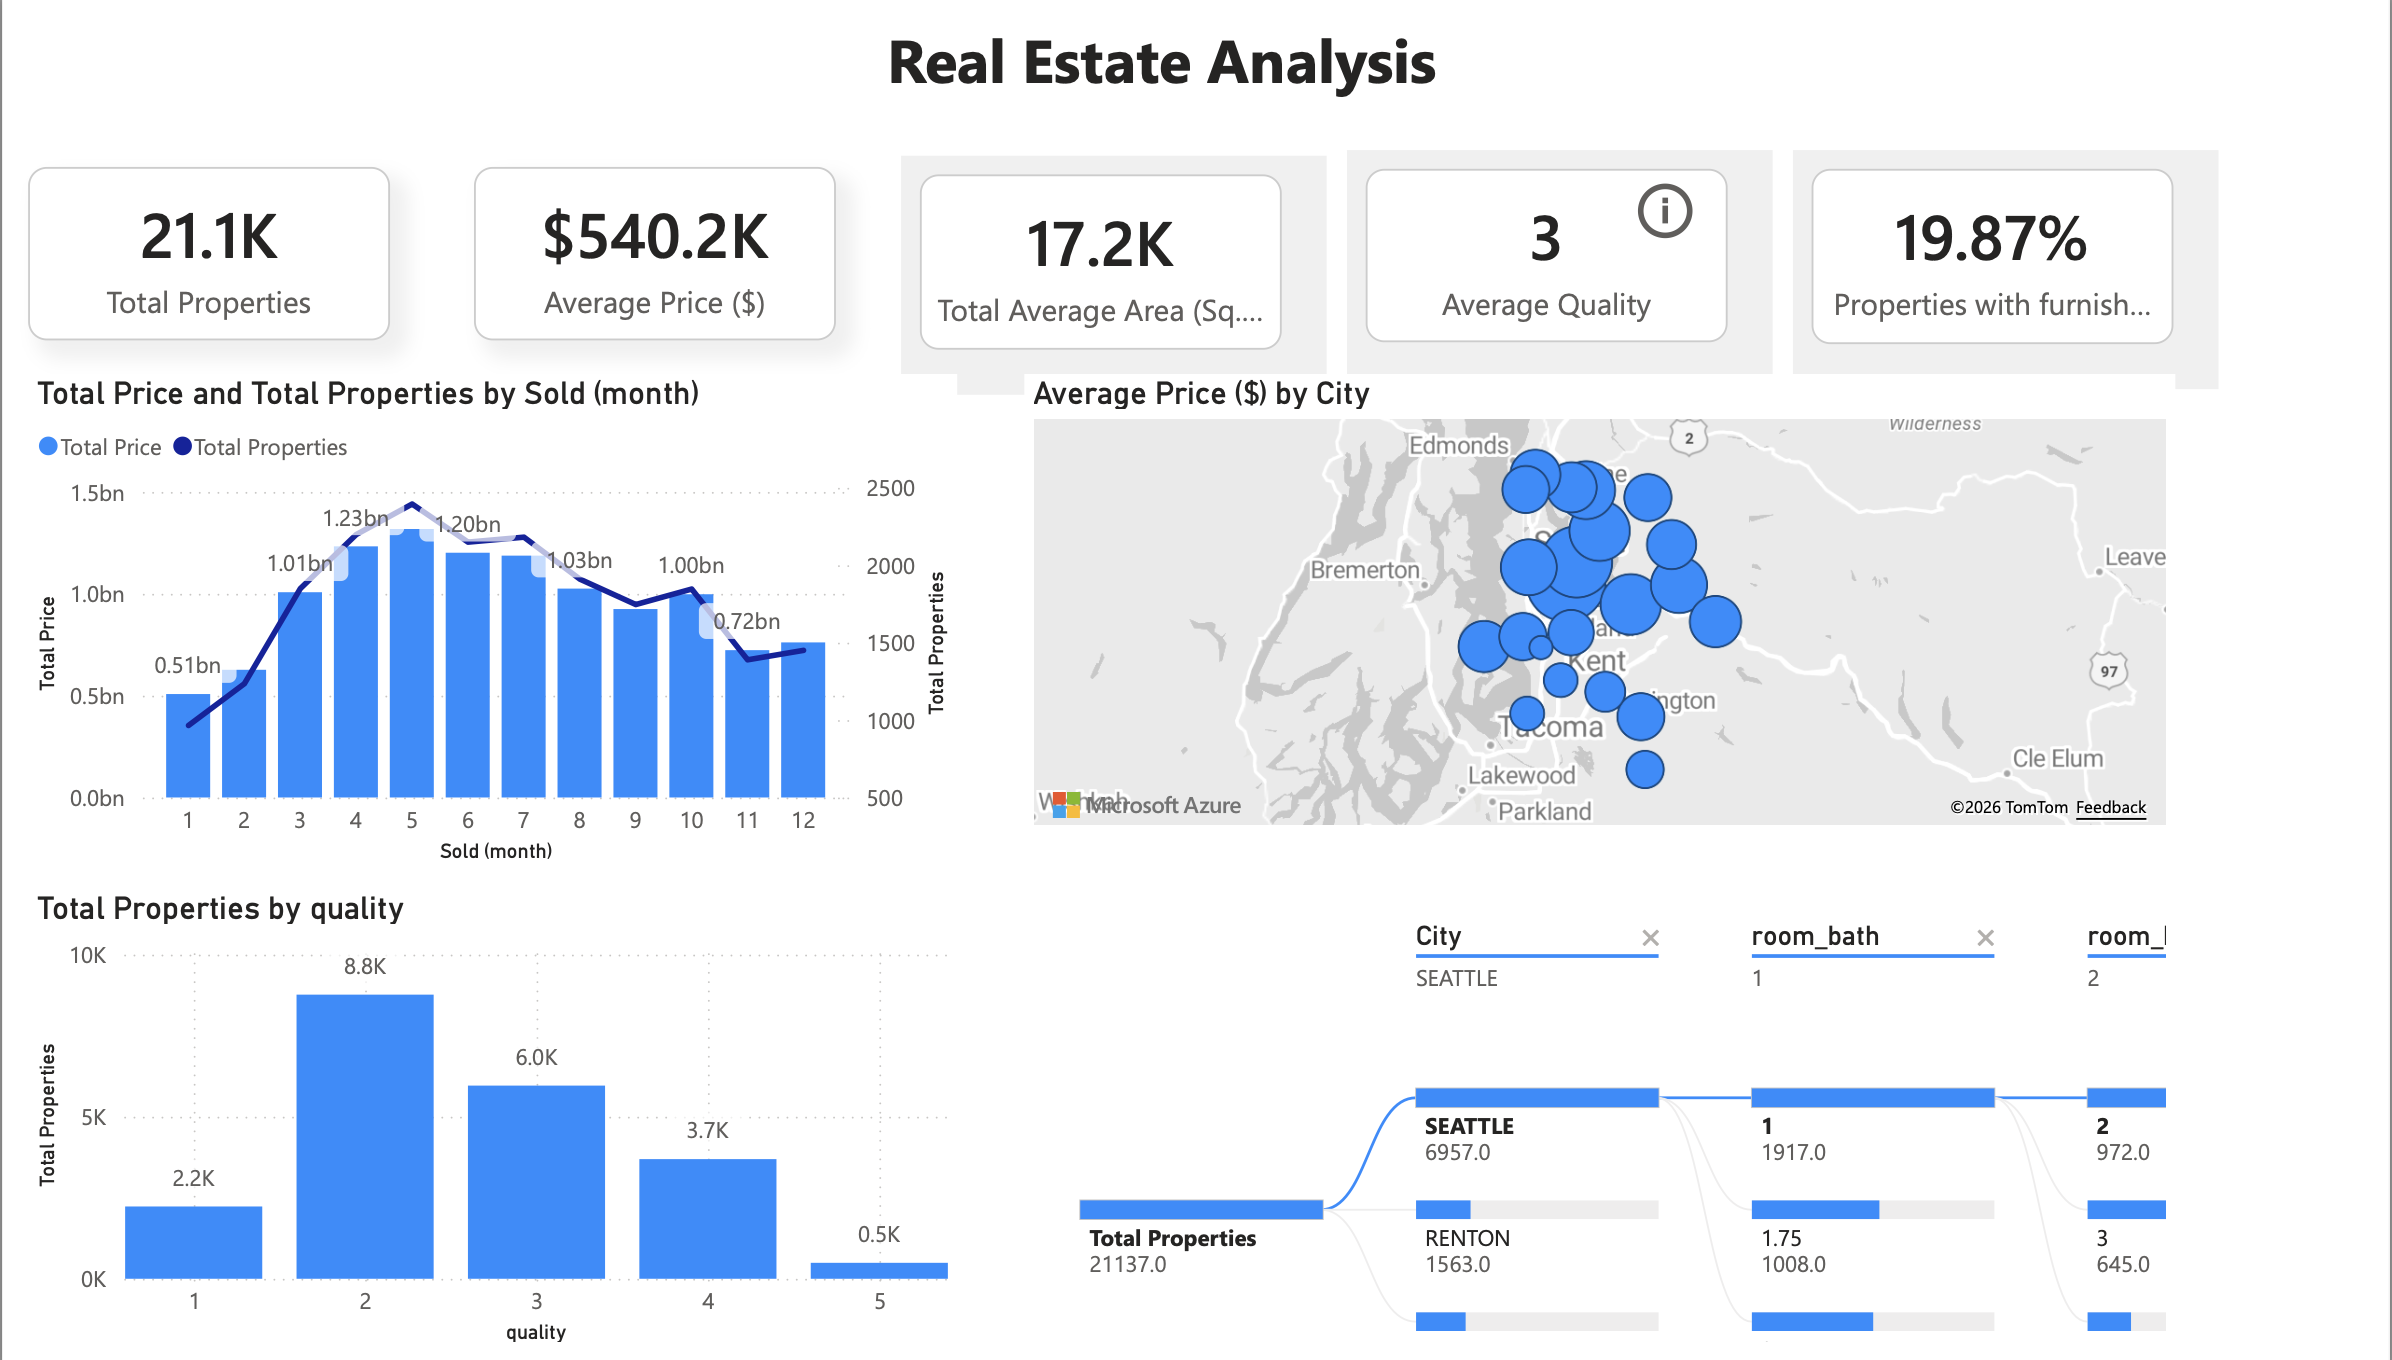

Layout of this report page (visuals, bound fields, positions):
{"tool":"powerbi","page":{"name":"Real Estate Analysis","canvas":[1280,720],"ordinal":0},"visuals":[{"type":"card","fields":{"Values":["Real Estate Dataset.Total Properties"]},"box":[14.1,84.6,194,93],"z":0},{"type":"card","fields":{"Values":["Real Estate Dataset.Average Price ($)"]},"box":[253.1,84.6,194,93],"z":1000},{"type":"card","fields":{"Values":["Real Estate Dataset.Total Average Area (Sq.ft)"]},"box":[492.1,89.2,194,93.9],"z":2000},{"type":"card","fields":{"Values":["Real Estate Dataset.Average Quality"]},"box":[731.2,86.1,194,93],"z":3000},{"type":"actionButton","box":[871.6,89.2,42.2,39.1],"z":4000},{"type":"card","fields":{"Values":["Real Estate Dataset.Properties with furnished (%)"]},"box":[970.2,86.1,194,93.9],"z":5000},{"type":"lineStackedColumnComboChart","fields":{"Category":["Real Estate Dataset.Sold (month)"],"Y":["Real Estate Dataset.Total Price"],"Y2":["Real Estate Dataset.Total Properties"]},"box":[14.1,195.6,497.6,266],"z":5001},{"type":"azureMap","fields":{"Category":["Real Estate Dataset.City"],"Size":["Real Estate Dataset.Average Price ($)"]},"box":[547.7,195.6,616.5,247.2],"z":5002},{"type":"lineStackedColumnComboChart","fields":{"Category":["Real Estate Dataset.quality "],"Y":["Real Estate Dataset.Total Properties"]},"box":[14,472,498,248],"z":5003},{"type":"decompositionTreeVisual","fields":{"Analyze":["Real Estate Dataset.Total Properties"],"ExplainBy":["Real Estate Dataset.City","Real Estate Dataset.room_bath","Real Estate Dataset.room_bed","Real Estate Dataset.basement"]},"box":[548,472,617,248],"z":5004},{"type":"textbox","box":[447.2,0,349.8,65.3],"z":5005}]}

Visuals, with their boxes in screenshot pixels (x1, y1, x2, y2), scaled from the page's 1280x720 canvas onto the 2392x1360 screenshot:
card - Real Estate Dataset.Total Properties: 26, 160, 389, 335
card - Real Estate Dataset.Average Price ($): 473, 160, 836, 335
card - Real Estate Dataset.Total Average Area (Sq.ft): 920, 168, 1282, 346
card - Real Estate Dataset.Average Quality: 1366, 163, 1729, 338
actionButton: 1629, 168, 1708, 242
card - Real Estate Dataset.Properties with furnished (%): 1813, 163, 2176, 340
lineStackedColumnComboChart - Real Estate Dataset.Sold (month) x Real Estate Dataset.Total Price: 26, 369, 956, 872
azureMap - Real Estate Dataset.City x Real Estate Dataset.Average Price ($): 1024, 369, 2176, 836
lineStackedColumnComboChart - Real Estate Dataset.quality  x Real Estate Dataset.Total Properties: 26, 892, 957, 1359
decompositionTreeVisual - Real Estate Dataset.Total Properties x Real Estate Dataset.City: 1024, 892, 2177, 1359
textbox: 836, 0, 1489, 123
